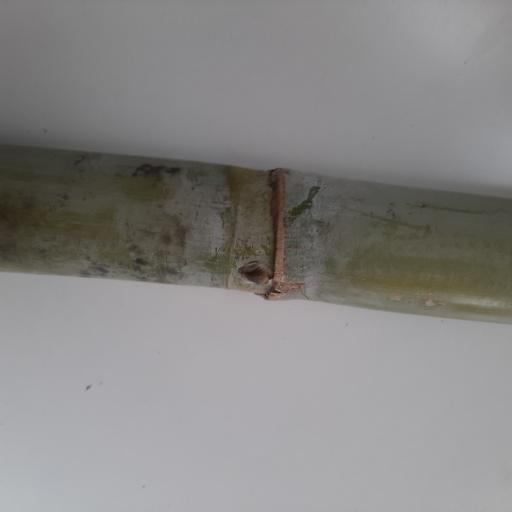Bud: (236, 259, 270, 287)
